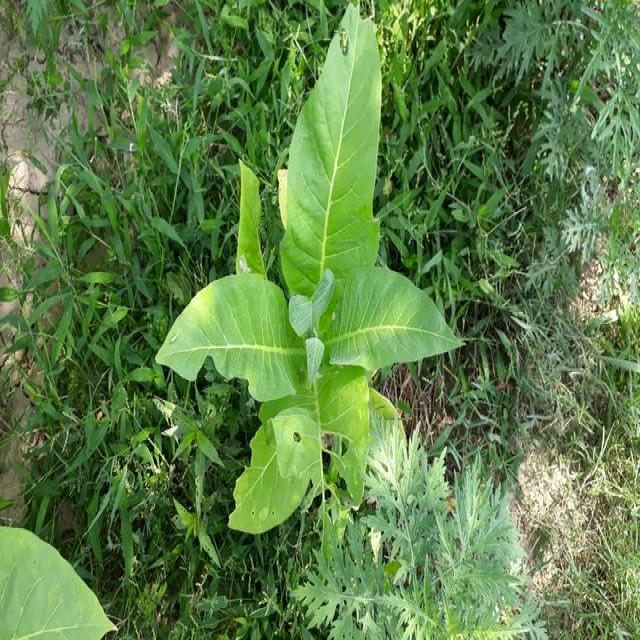crop: (188, 4, 440, 525)
